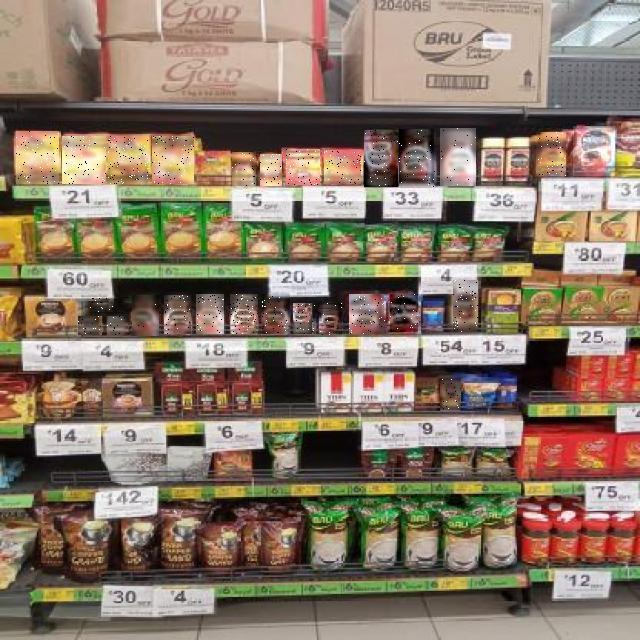Coffee: (16, 131, 59, 184), (62, 136, 106, 184), (573, 127, 615, 177), (441, 129, 477, 187), (400, 130, 436, 188), (152, 136, 194, 184), (364, 130, 398, 187), (109, 136, 149, 184), (350, 294, 386, 334), (537, 133, 567, 177), (453, 280, 478, 332), (324, 150, 361, 184), (286, 149, 320, 185), (230, 295, 258, 335), (262, 295, 290, 335), (196, 295, 224, 335), (132, 295, 159, 336), (390, 294, 418, 332), (164, 295, 191, 334), (232, 152, 256, 186), (318, 303, 342, 335), (260, 154, 282, 186), (294, 303, 316, 334), (440, 380, 460, 412), (78, 316, 102, 335), (108, 316, 128, 336), (89, 299, 113, 313)
